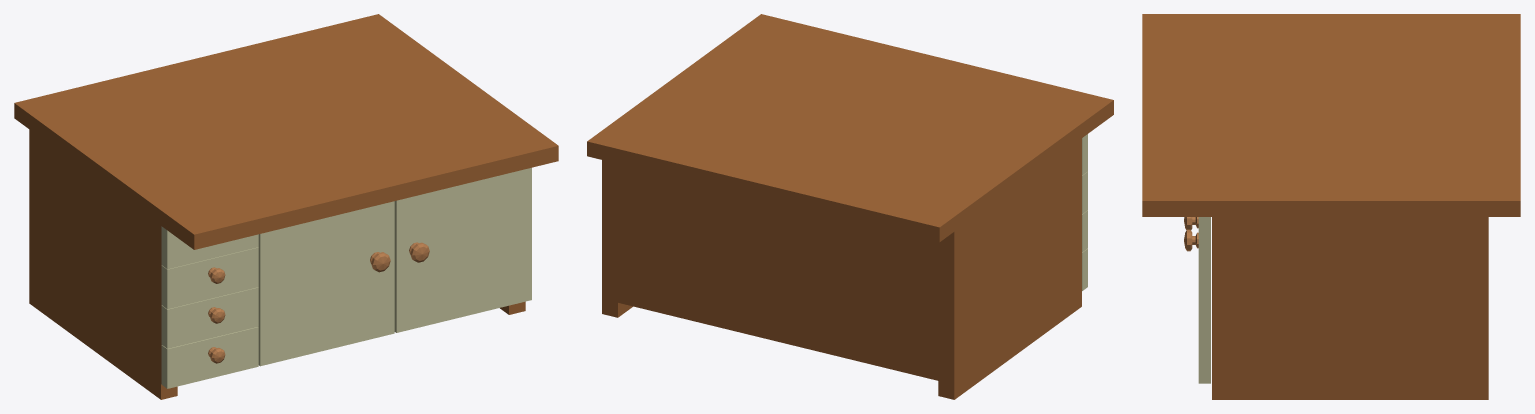
Rendered from tableFax_mdl.fbx.
3 views of the same model, side by side, from view 1: azimuth 30°, elevation 25°; view 2: azimuth 150°, elevation 25°; view 3: azimuth 270°, elevation 25° (orthographic). The views are drawn at different scales.
Visible parts, largest first — view 1: tableFax_geo; view 2: tableFax_geo; view 3: tableFax_geo.
Part boxes in pixels (x1=…): tableFax_geo: x1=14, y1=14, x2=558, y2=399; tableFax_geo: x1=587, y1=14, x2=1113, y2=399; tableFax_geo: x1=1142, y1=14, x2=1520, y2=399.
Bounding box in the file's own units: 1.4 × 0.6955 × 1.2.
